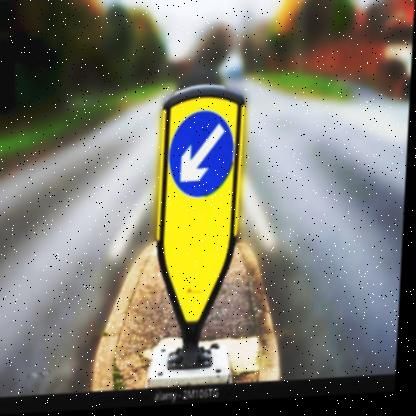Keep left: (164, 105, 245, 209)
